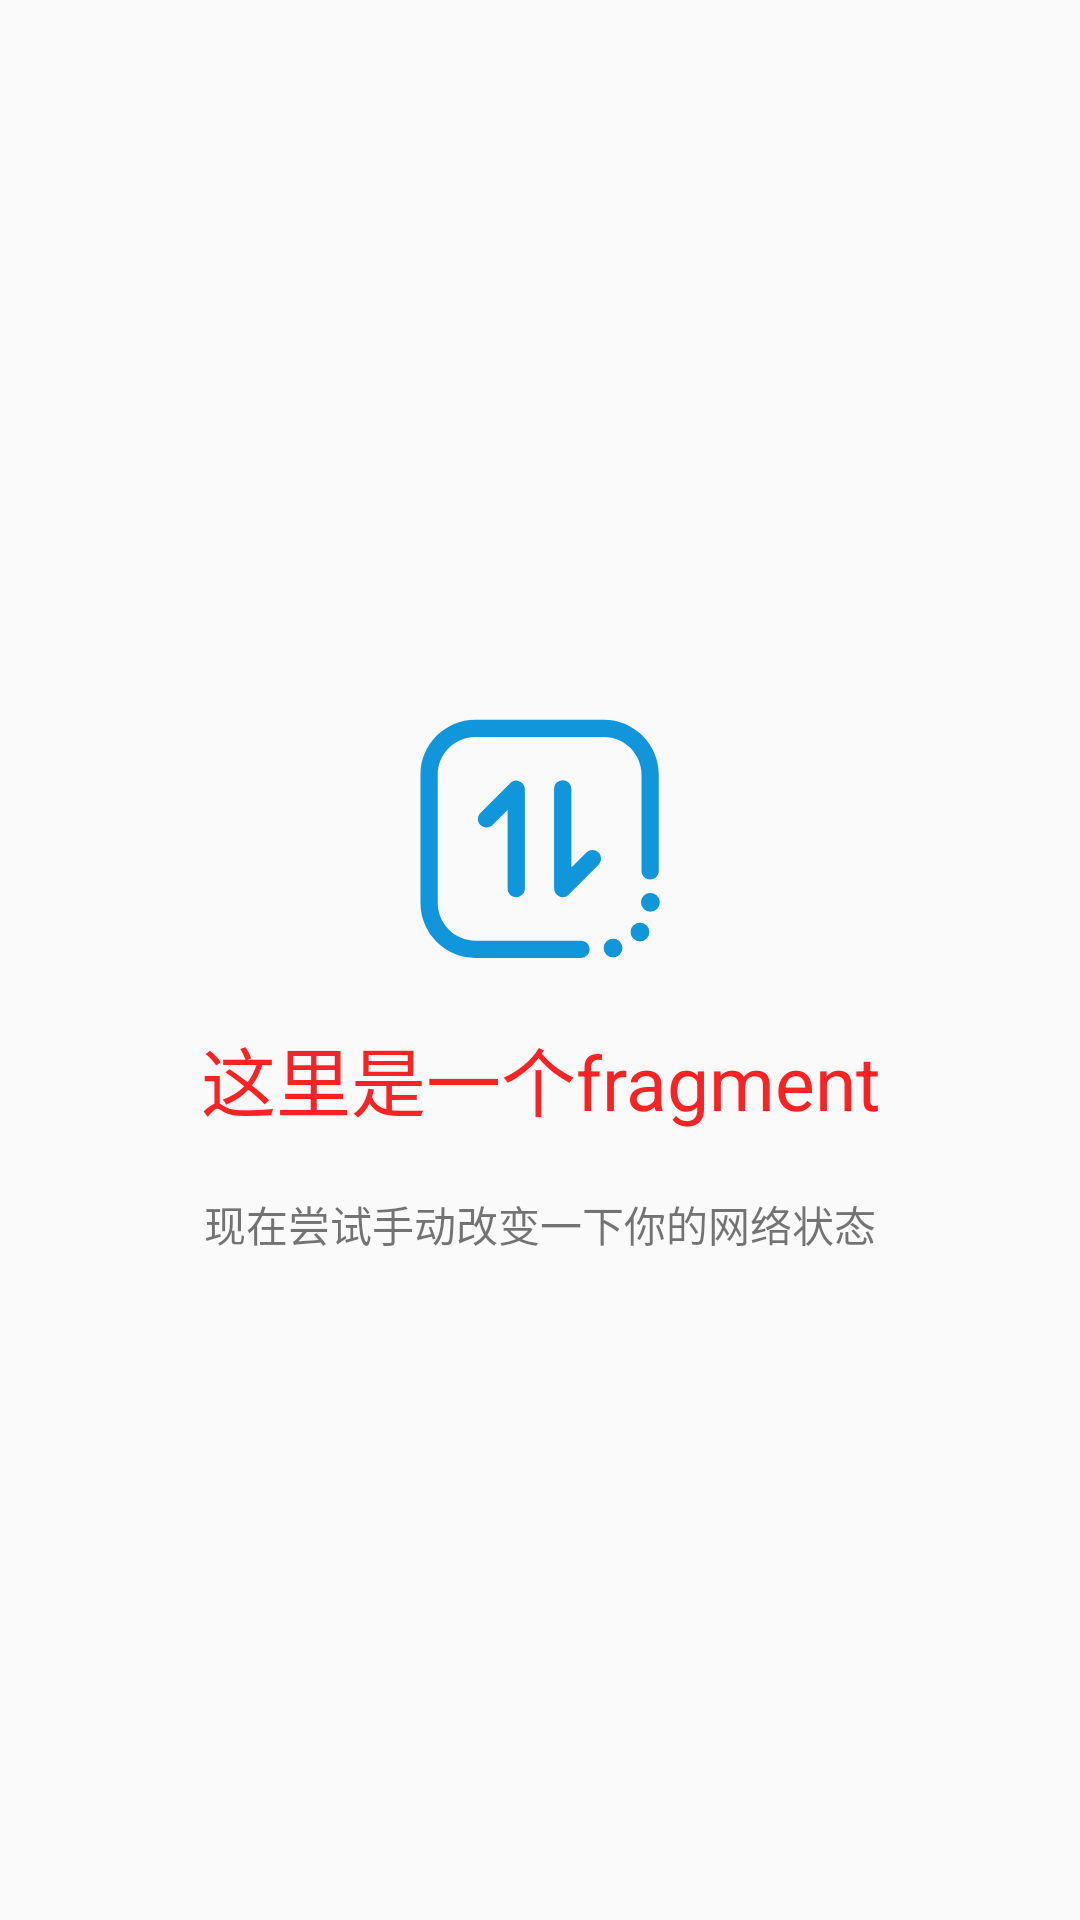

Icons on this 1080px x 1920px Android screen, each with the point to tap as point (x, y):
网络状态图标: point (540, 838)
